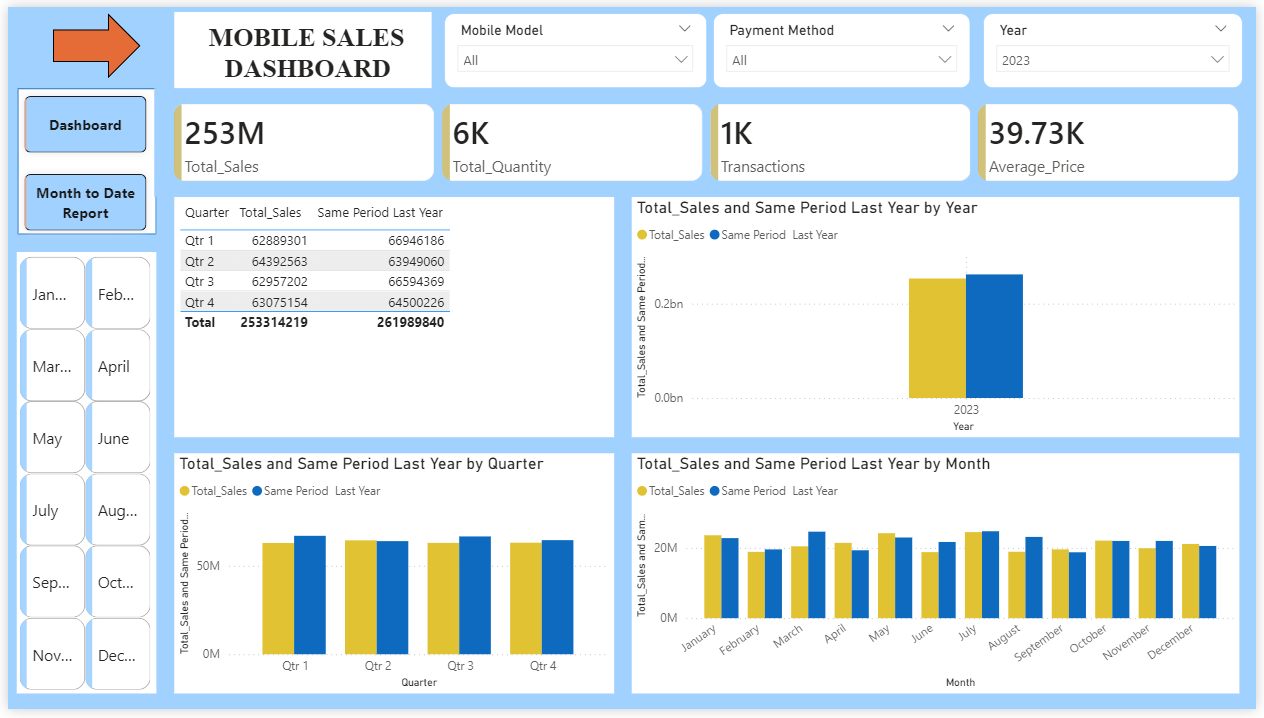

The dashboard page shown, as its layout file describes it:
{"tool":"powerbi","page":{"name":"Same Period Last Year","canvas":[1280,720],"ordinal":2},"visuals":[{"type":"slicer","fields":{"Values":["Sales Data.Mobile Model"]},"box":[447.4,6.4,269.2,76.9],"z":0},{"type":"slicer","fields":{"Values":["Sales Data.Payment Method"]},"box":[723.1,6.4,264.1,76.9],"z":1000},{"type":"slicer","fields":{"Values":["Custome_Calendar.Date.Variation.Date Hierarchy.Year"]},"box":[1000,6.4,266.7,76.9],"z":2000},{"type":"shape","box":[46.2,6.4,89.7,66.7],"z":3000},{"type":"textbox","box":[170.5,5.1,264.1,78.2],"z":4000},{"type":"shape","box":[9,83.3,143.6,150],"z":5000},{"type":"cardVisual","fields":{"Data":["Sales Data.Total_Sales","Sales Data.Total_Quantity","Sales Data.Transactions","Sales Data.Average_Price"]},"box":[150,83.3,1129.5,111.5],"z":6000},{"type":"tableEx","fields":{"Values":["Custome_Calendar.Date.Variation.Date Hierarchy.Quarter","Sales Data.Total_Sales","Sales Data.Same Period  Last Year"]},"box":[170.5,194.9,451.3,246.2],"z":7000},{"type":"advancedSlicerVisual","fields":{"Values":["Custome_Calendar.Date.Variation.Date Hierarchy.Month"]},"box":[9,251.3,143.6,452.6],"z":8000},{"type":"clusteredColumnChart","fields":{"Category":["Custome_Calendar.Date.Variation.Date Hierarchy.Year","Custome_Calendar.Date.Variation.Date Hierarchy.Quarter"],"Y":["Sales Data.Total_Sales","Sales Data.Same Period  Last Year"]},"box":[639.7,194.9,623.1,246.2],"z":9000},{"type":"clusteredColumnChart","fields":{"Category":["Custome_Calendar.Date.Variation.Date Hierarchy.Year","Custome_Calendar.Date.Variation.Date Hierarchy.Quarter"],"Y":["Sales Data.Total_Sales","Sales Data.Same Period  Last Year"]},"box":[170.5,457.7,451.3,246.2],"z":10000},{"type":"clusteredColumnChart","fields":{"Y":["Sales Data.Total_Sales","Sales Data.Same Period  Last Year"],"Category":["Custome_Calendar.Date.Variation.Date Hierarchy.Year","Custome_Calendar.Date.Variation.Date Hierarchy.Quarter","Custome_Calendar.Date.Variation.Date Hierarchy.Month","Custome_Calendar.Date.Variation.Date Hierarchy.Day"]},"box":[639.7,457.7,623.1,246.2],"z":11000},{"type":"pageNavigator","box":[9,83.3,141,155.1],"z":11001}]}

Visuals, with their boxes in screenshot pixels (x1, y1, x2, y2), scaled from the page's 1280x720 canvas onto the 1264x718 screenshot:
slicer - Sales Data.Mobile Model: crop(442, 6, 708, 83)
slicer - Sales Data.Payment Method: crop(714, 6, 975, 83)
slicer - Custome_Calendar.Date.Variation.Date Hierarchy.Year: crop(988, 6, 1251, 83)
shape: crop(46, 6, 134, 73)
textbox: crop(168, 5, 429, 83)
shape: crop(9, 83, 151, 233)
cardVisual - Sales Data.Total_Sales x Sales Data.Total_Quantity: crop(148, 83, 1263, 194)
tableEx - Custome_Calendar.Date.Variation.Date Hierarchy.Quarter x Sales Data.Total_Sales: crop(168, 194, 614, 440)
advancedSlicerVisual - Custome_Calendar.Date.Variation.Date Hierarchy.Month: crop(9, 251, 151, 702)
clusteredColumnChart - Custome_Calendar.Date.Variation.Date Hierarchy.Year x Custome_Calendar.Date.Variation.Date Hierarchy.Quarter: crop(632, 194, 1247, 440)
clusteredColumnChart - Custome_Calendar.Date.Variation.Date Hierarchy.Year x Custome_Calendar.Date.Variation.Date Hierarchy.Quarter: crop(168, 456, 614, 702)
clusteredColumnChart - Sales Data.Total_Sales x Sales Data.Same Period  Last Year: crop(632, 456, 1247, 702)
pageNavigator: crop(9, 83, 148, 238)
